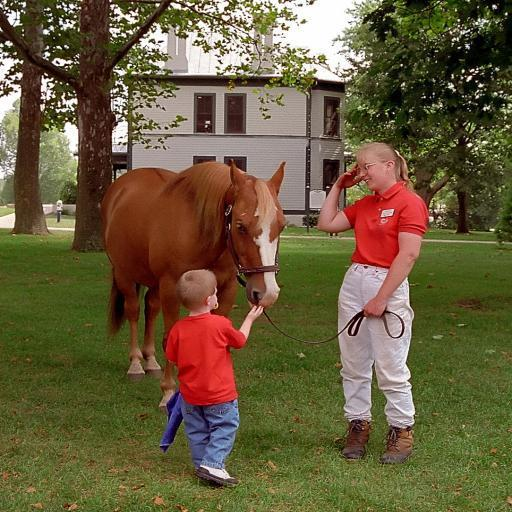horse: (102, 160, 290, 384)
